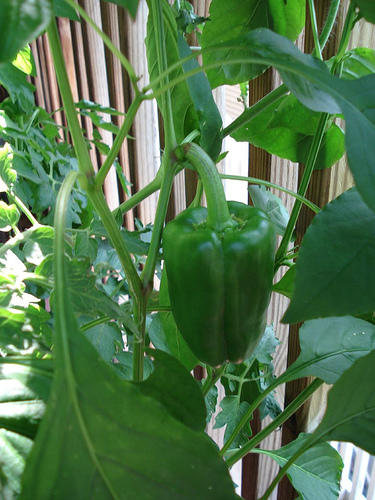capsicum: (158, 140, 273, 363)
